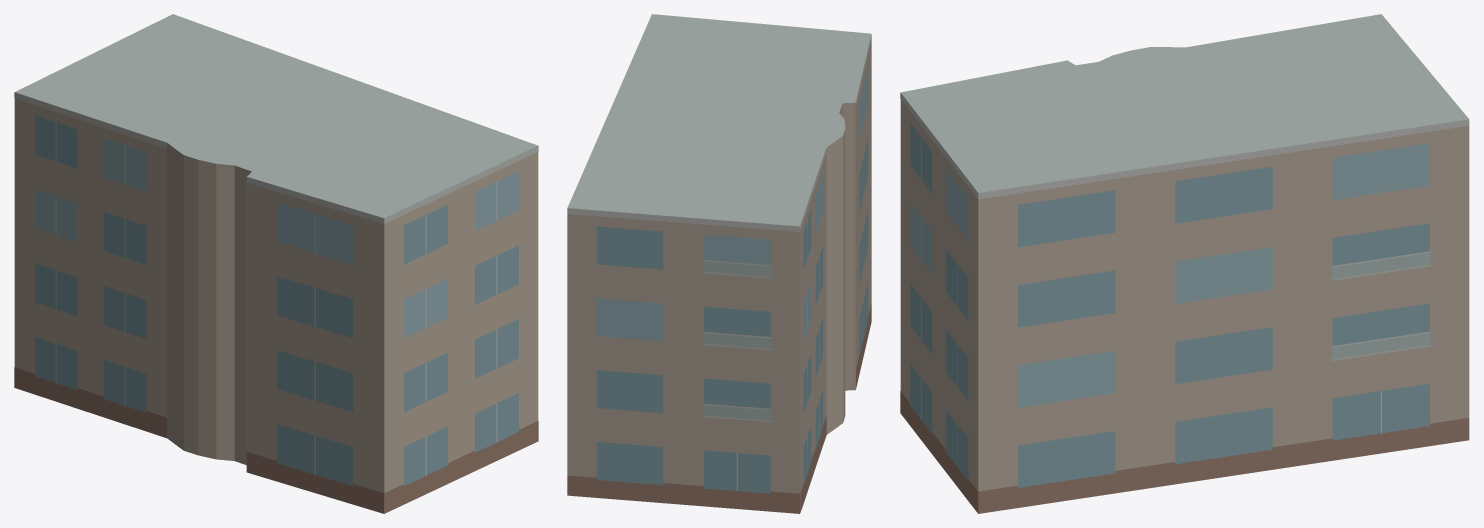
The model's file is survey-upis-32843877.glb.
The picture shows the model from 3 angles, left to right: view 1: azimuth 30°, elevation 25°; view 2: azimuth 150°, elevation 25°; view 3: azimuth 270°, elevation 25°; orthographic projection. The views are drawn at different scales.
Parts seen in each view (by area): view 1: survey-upis-32843877.tmp; view 2: survey-upis-32843877.tmp; view 3: survey-upis-32843877.tmp.
Part boxes in pixels (x1,y1,x2,y2): survey-upis-32843877.tmp: (14,14,538,513); survey-upis-32843877.tmp: (567,14,871,513); survey-upis-32843877.tmp: (900,14,1469,513).
Size of the model in its own units: 14.61 by 12.2 by 19.62.
